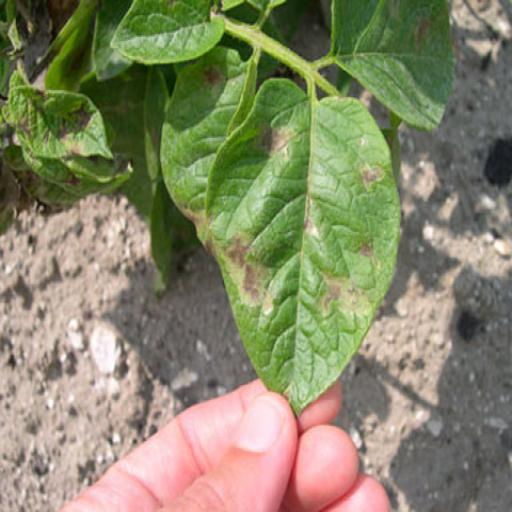Late Blight: (202, 72, 402, 414)
